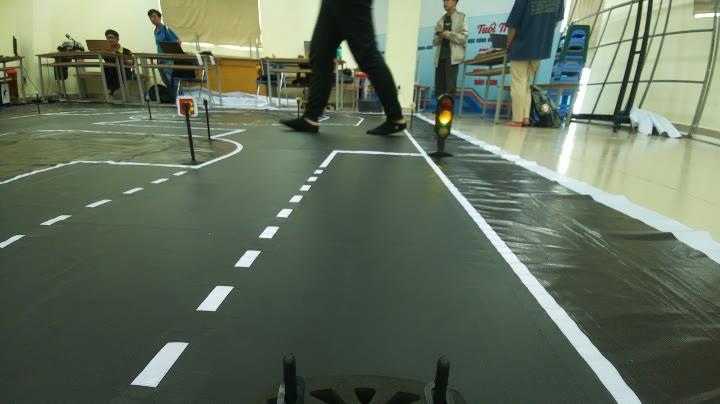trafficlight: (419, 91, 463, 161)
